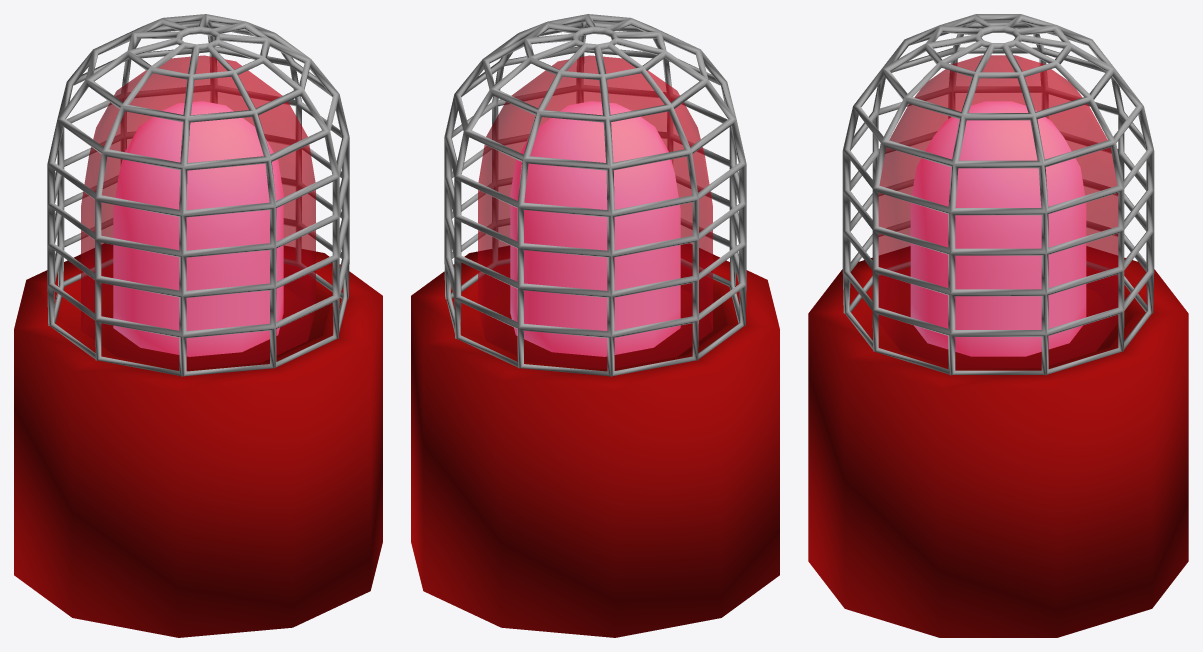
Rendered from EMERGENCY_LIGHT.fbx.
3 views of the same model, side by side, from view 1: azimuth 30°, elevation 25°; view 2: azimuth 150°, elevation 25°; view 3: azimuth 270°, elevation 25° (orthographic).
Visible parts, largest first — view 1: Cylinder.002, Cylinder, Cylinder.001, Cylinder.003; view 2: Cylinder.002, Cylinder, Cylinder.001, Cylinder.003; view 3: Cylinder.002, Cylinder, Cylinder.001, Cylinder.003.
Boxes of the visible parts, box(x1,y1,x2,y2) form: Cylinder.002: box(14, 243, 382, 637); Cylinder: box(81, 55, 315, 368); Cylinder.001: box(47, 14, 349, 376); Cylinder.003: box(113, 101, 283, 356); Cylinder.002: box(411, 243, 779, 637); Cylinder: box(478, 55, 712, 368); Cylinder.001: box(444, 14, 746, 376); Cylinder.003: box(510, 101, 680, 356); Cylinder.002: box(808, 246, 1188, 637); Cylinder: box(878, 55, 1118, 367); Cylinder.001: box(842, 14, 1154, 375); Cylinder.003: box(910, 101, 1086, 356).
Bounding box in the file's own units: 28.78 × 46.34 × 30.26.
